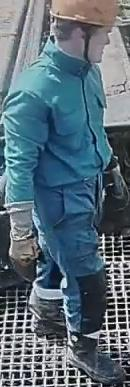gloves: (5, 200, 42, 282), (102, 155, 129, 212)
helmet: (48, 0, 118, 32)
vest: (0, 38, 114, 199)
